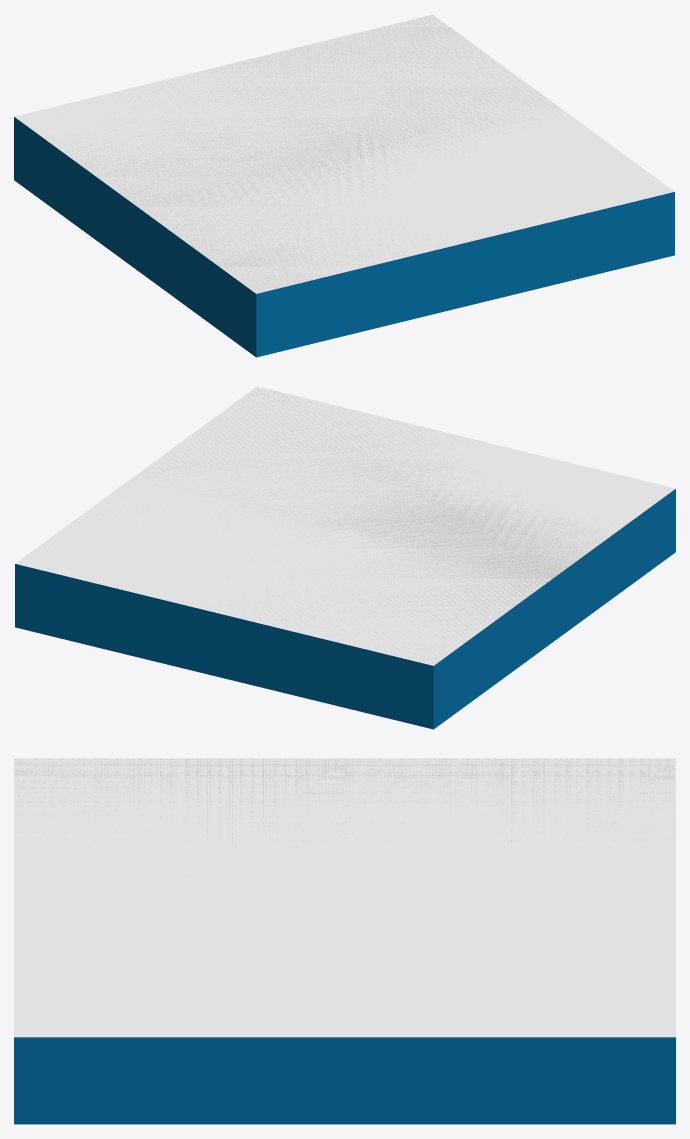
Rendered from forwardingboxupdated.dae.
3 views of the same model, one above another, from view 1: azimuth 30°, elevation 25°; view 2: azimuth 150°, elevation 25°; view 3: azimuth 270°, elevation 25° (orthographic). The views are drawn at different scales.
Visible parts, largest first — view 1: SketchUp (×2), image_0; view 2: SketchUp (×2), image_0; view 3: SketchUp (×2), image_0, image_1.
Part boxes in pixels (<box>): SketchUp (×2): <box>14,14,674,357</box>; image_0: <box>30,15,570,293</box>; SketchUp (×2): <box>15,386,675,729</box>; image_0: <box>48,387,619,664</box>; SketchUp (×2): <box>14,758,675,1124</box>; image_0: <box>14,758,674,903</box>; image_1: <box>14,1124,675,1124</box>.
Size of the model in its own units: 47.98 by 47.98 by 6.95.
